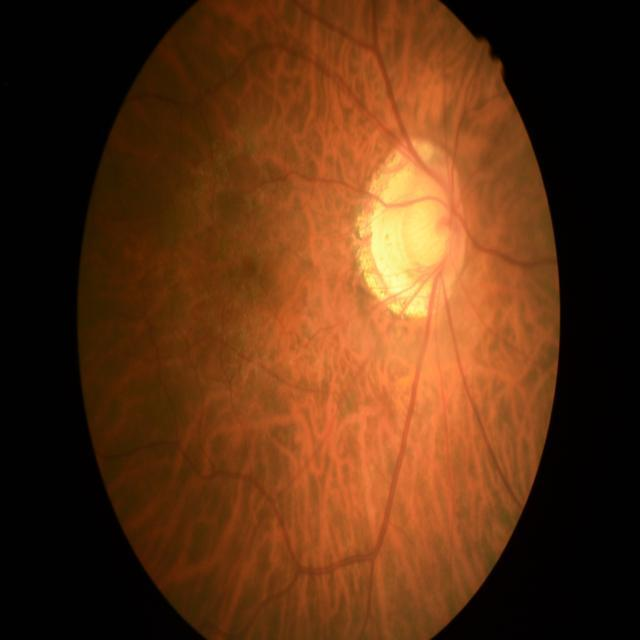cup: (411, 178, 454, 268)
disk: (400, 163, 464, 279)
